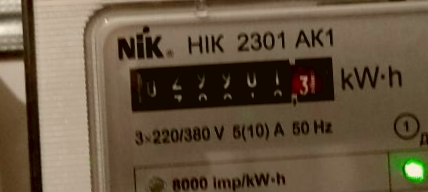0: (242, 64, 259, 89), (142, 75, 158, 98)
1: (269, 62, 283, 87)
2: (167, 69, 184, 92)
3: (295, 73, 311, 96)
9: (218, 67, 232, 91), (193, 67, 207, 89)
screen: (120, 48, 344, 122)
